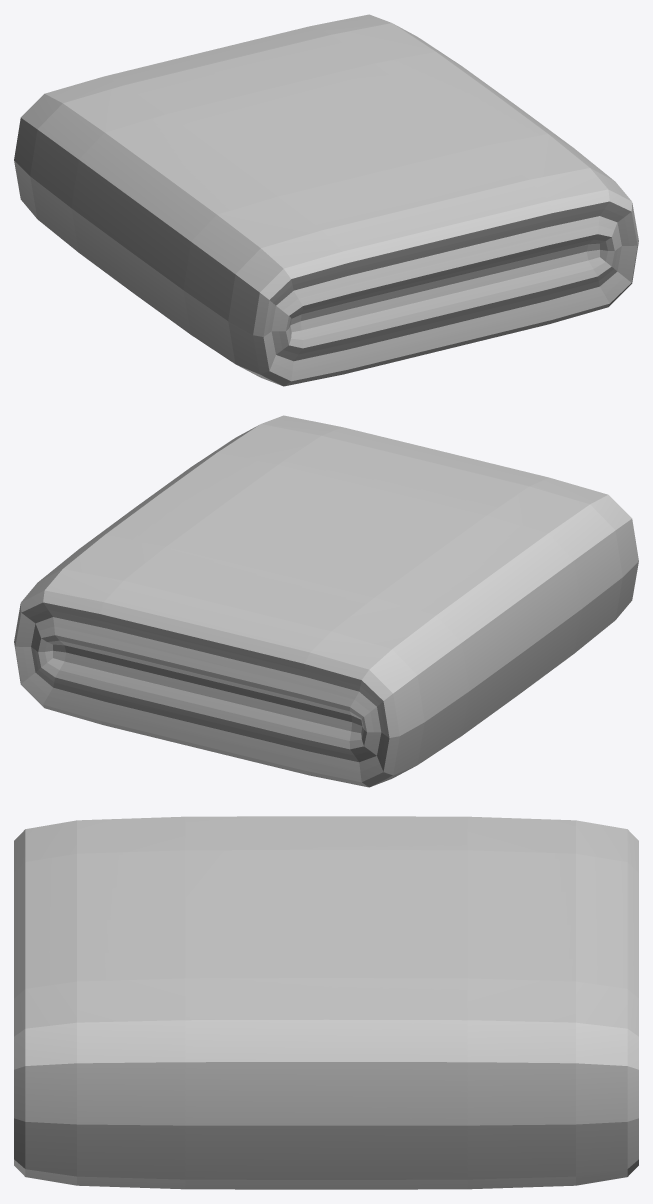
File: Clothes3_C1.fbx
The picture shows the model from 3 angles, top to bottom: view 1: azimuth 30°, elevation 25°; view 2: azimuth 150°, elevation 25°; view 3: azimuth 270°, elevation 25°; orthographic projection. The views are drawn at different scales.
Visible parts, largest first — view 1: Clothes3_C1; view 2: Clothes3_C1; view 3: Clothes3_C1.
Part boxes in pixels (bbox=[...]): Clothes3_C1: bbox=[14, 14, 638, 386]; Clothes3_C1: bbox=[14, 415, 638, 787]; Clothes3_C1: bbox=[14, 816, 638, 1189].
Size of the model in its own units: 22.53 by 7.63 by 24.28.
